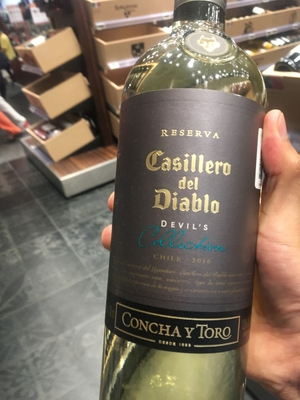casillero del diablo devils collection verde: (95, 35, 275, 399)
